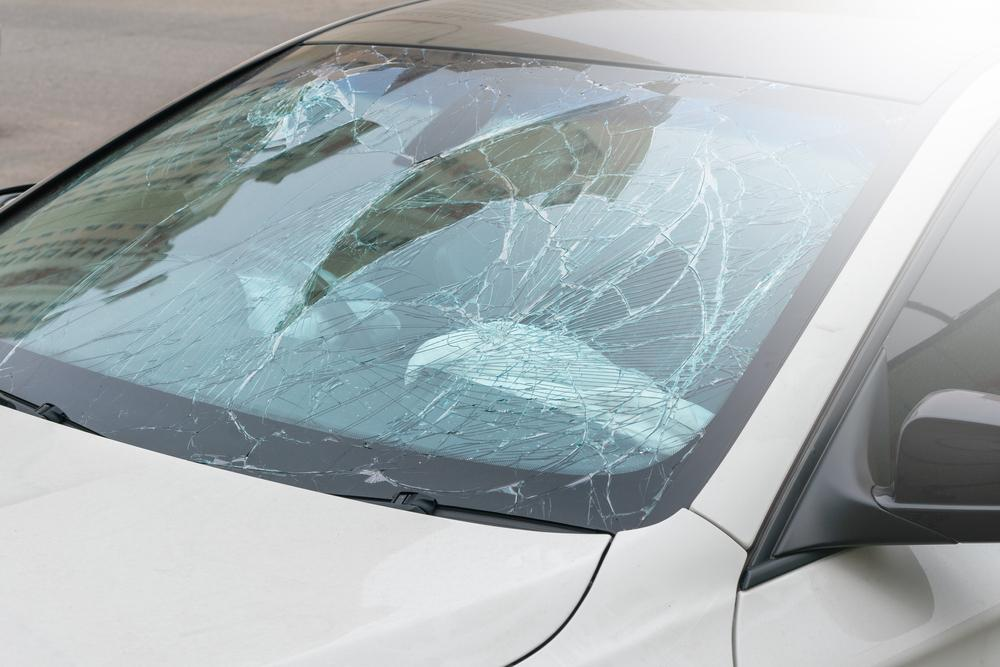glass shatter: (0, 42, 911, 531)
